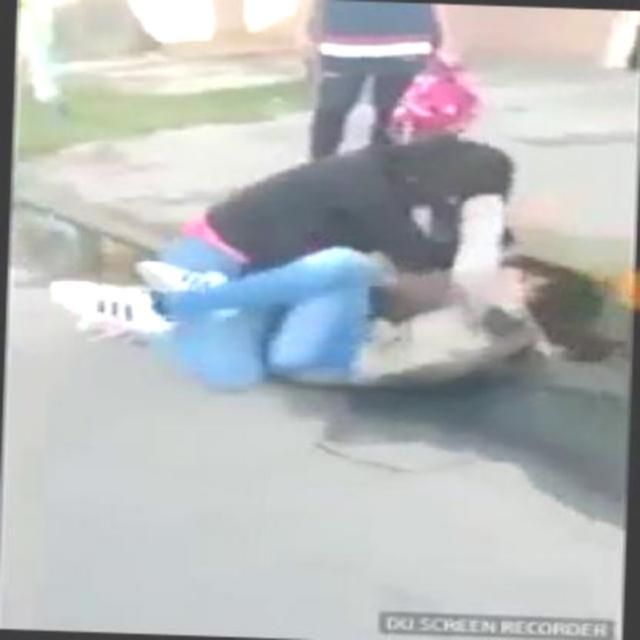fight: (114, 82, 588, 407)
